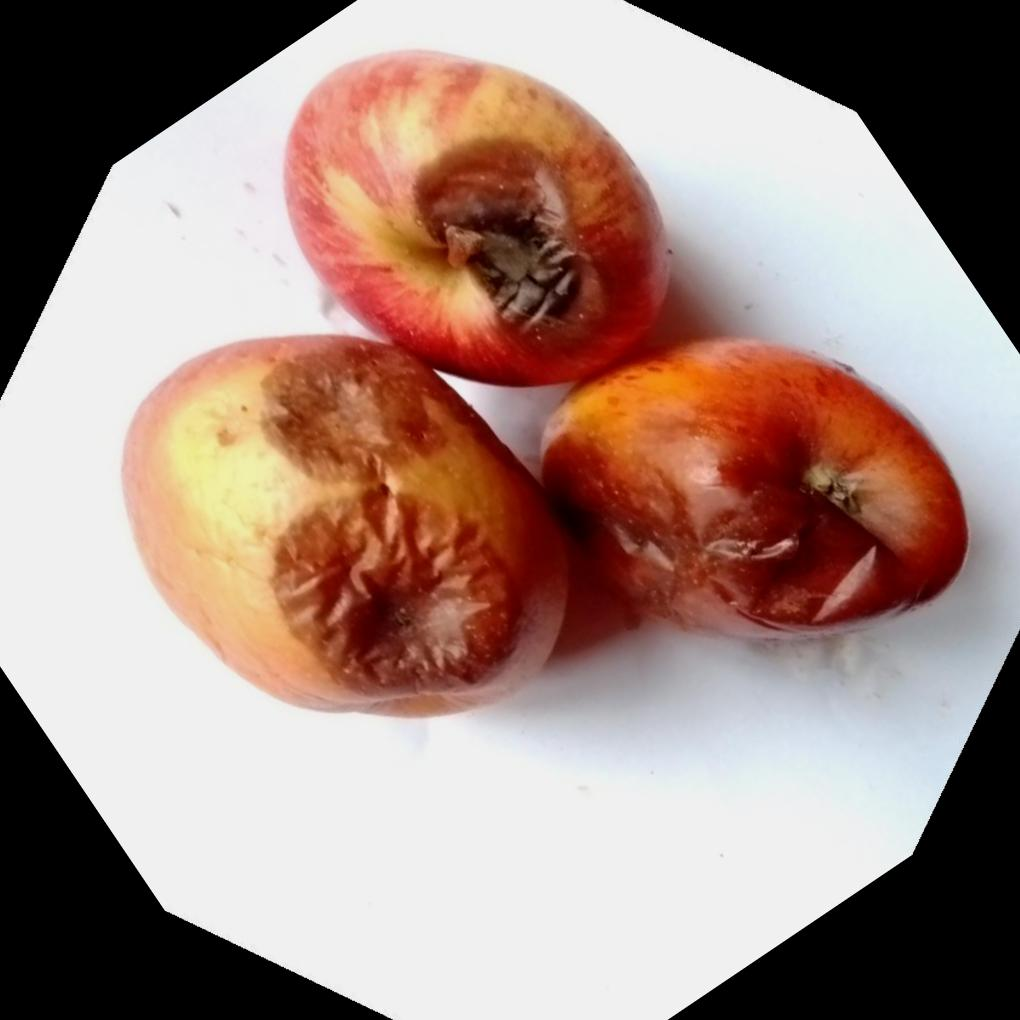FreshOrange: (122, 56, 970, 717)
